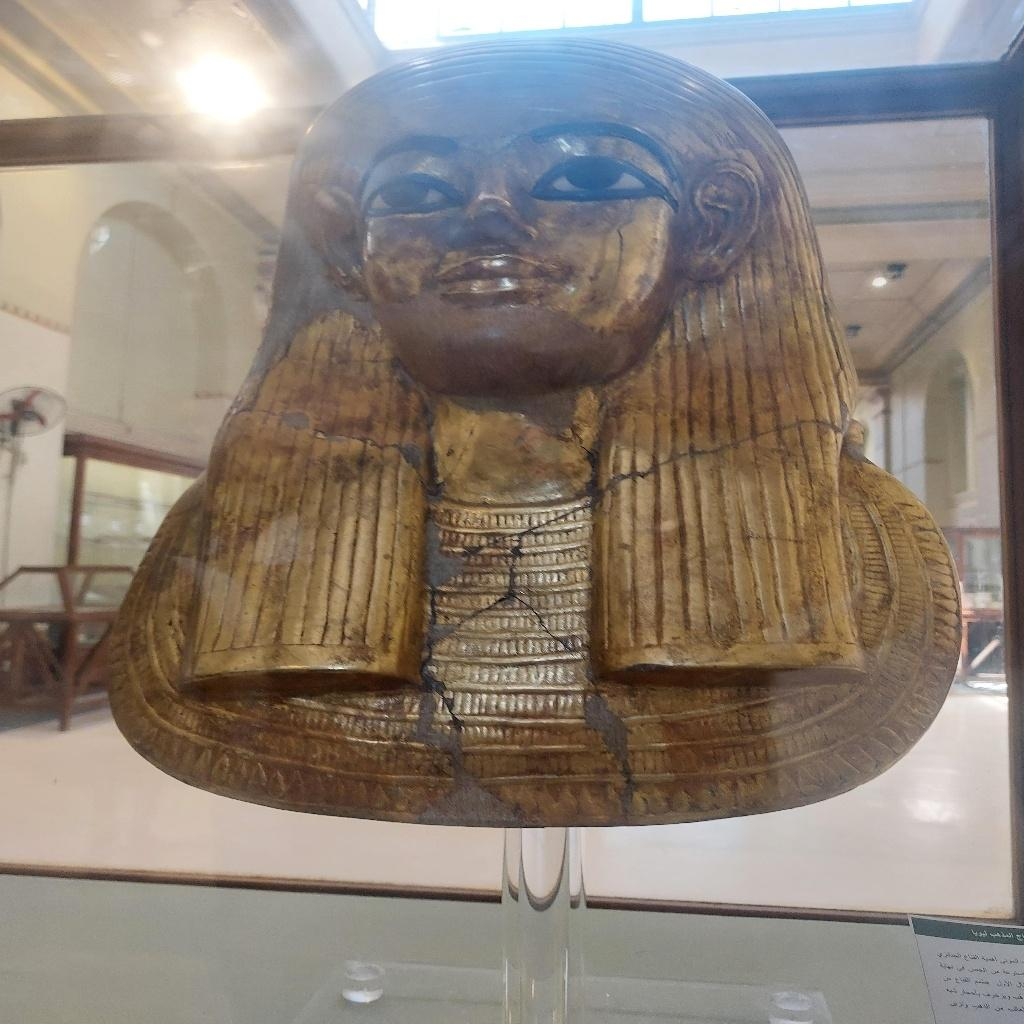Mask of Yuya: (103, 36, 965, 829)
